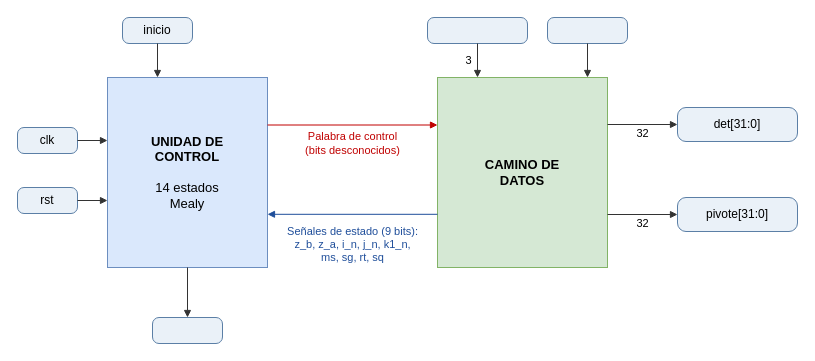
The diagram is 815 pixels wide and 361 high, and some of its shapes have lost their labels. The shapes that lost their labels are listed below. From the top down, each one's box as (x1, y1, x2, y2) in pixels, then its label:
(426, 16, 528, 44): dir_p[2:0]
(546, 16, 628, 44): clk, rst
(152, 316, 222, 344): final
